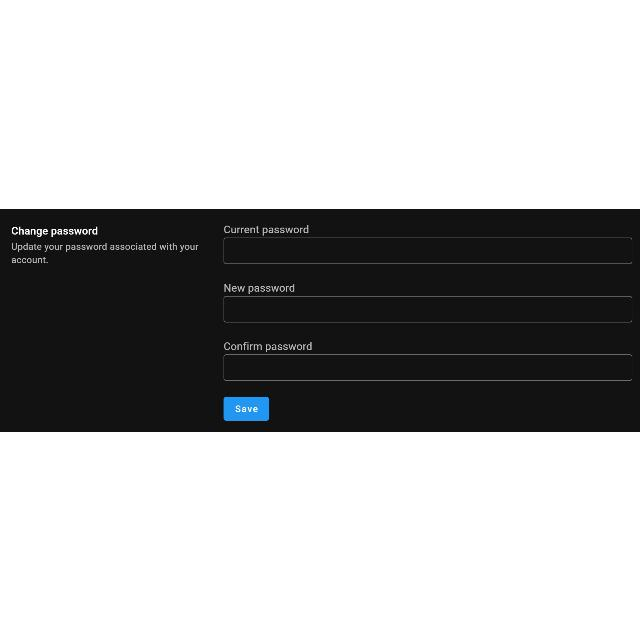QLabel: (10, 239, 200, 263), (8, 226, 100, 237), (223, 341, 313, 352), (223, 223, 311, 234), (222, 282, 298, 292), (234, 404, 260, 414)
VBtn: (223, 396, 270, 420)
VTextField: (223, 236, 633, 264), (223, 295, 632, 323), (223, 353, 632, 381)
